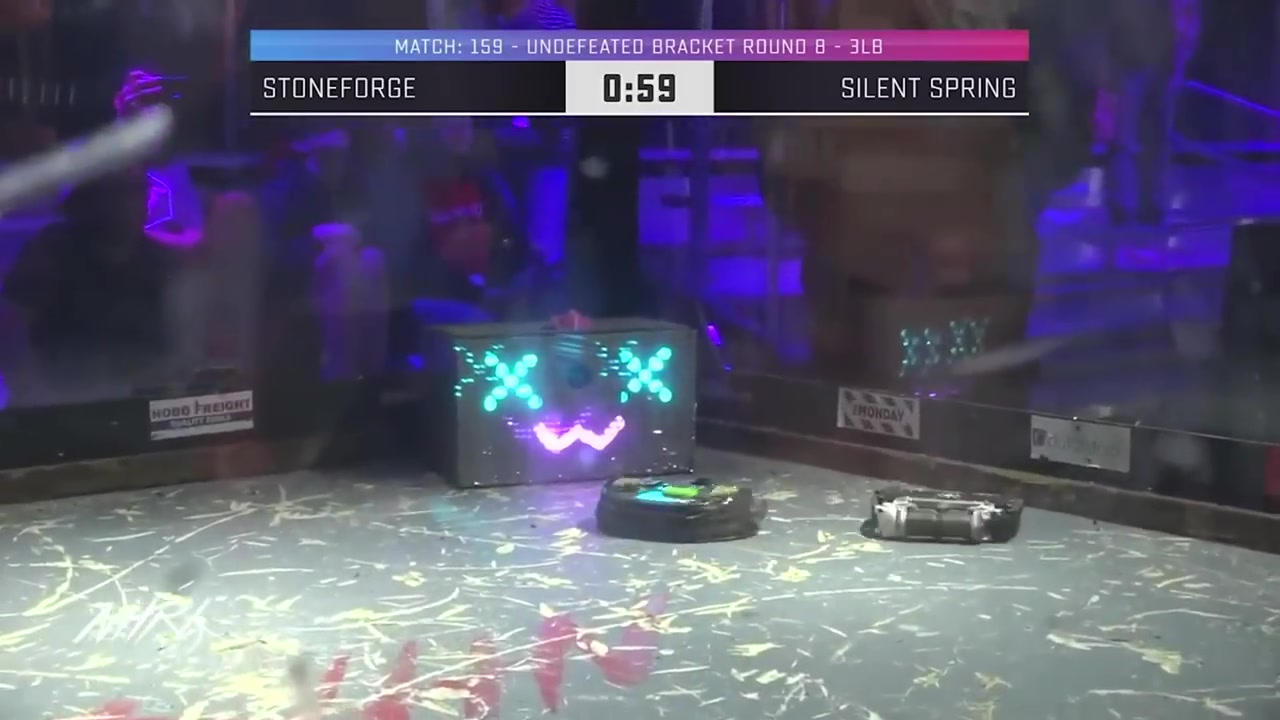combatbot: (598, 470, 767, 541), (863, 490, 1024, 546)
housebot: (423, 315, 697, 489)
